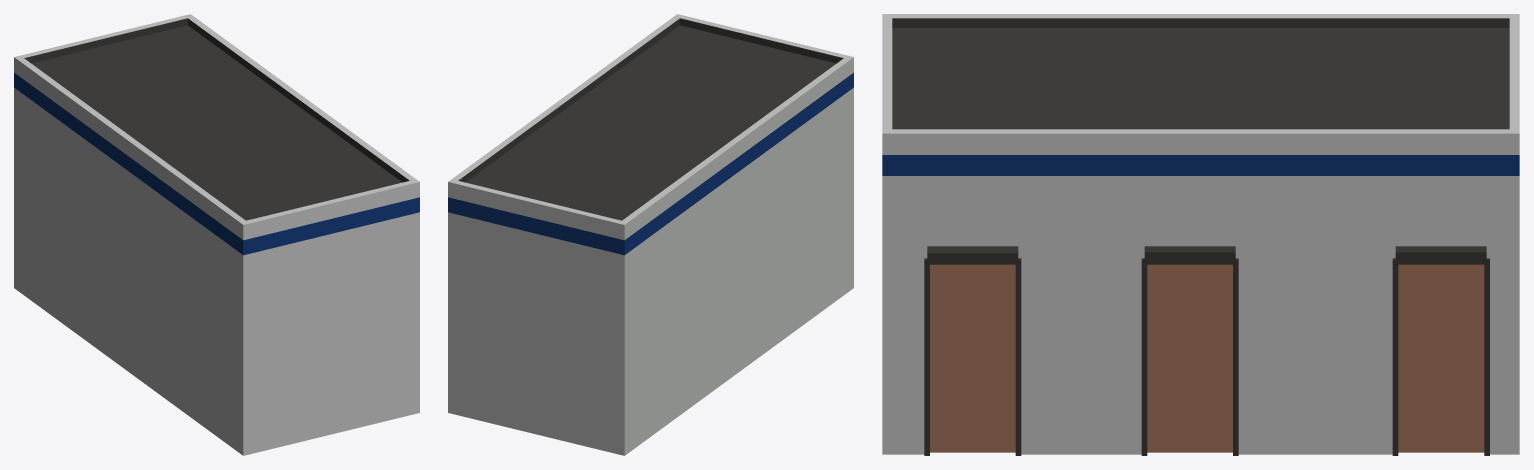
The model's file is SM_Factory_Administration_03.glb.
The picture shows the model from 3 angles, left to right: view 1: azimuth 30°, elevation 25°; view 2: azimuth 150°, elevation 25°; view 3: azimuth 270°, elevation 25°; orthographic projection. The views are drawn at different scales.
Visible parts, largest first — view 1: SM_Factory_Administration_03; view 2: SM_Factory_Administration_03; view 3: SM_Factory_Administration_03.
Boxes of the visible parts, x1,y1,x2,y2 form: SM_Factory_Administration_03: (14, 14, 419, 455); SM_Factory_Administration_03: (448, 14, 853, 455); SM_Factory_Administration_03: (882, 14, 1519, 455).
Bounding box in the file's own units: 4.24 × 5 × 9.
1 material, 1 textured.
